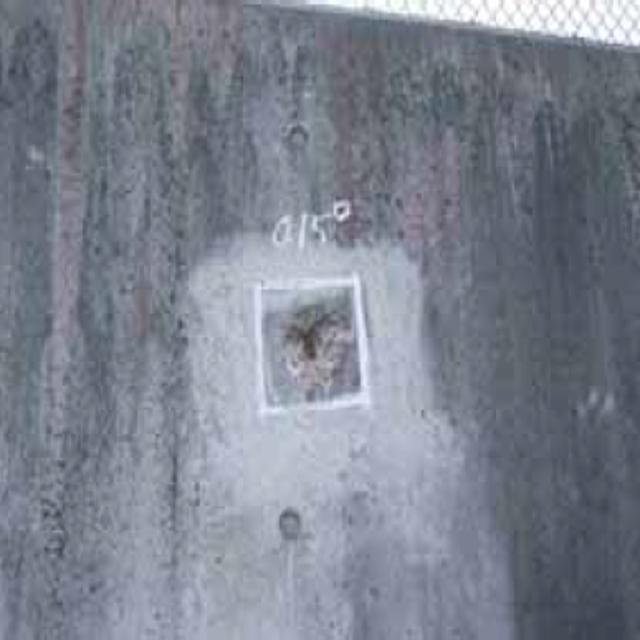spalling: (266, 284, 368, 413)
